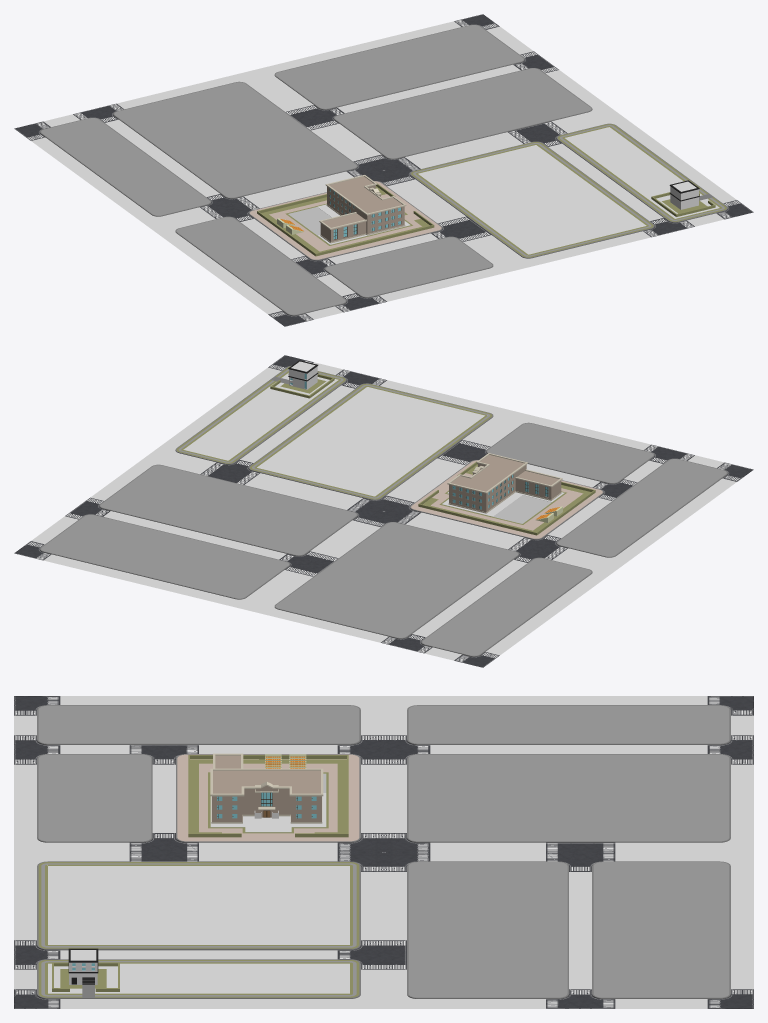
The model's file is map (2).fbx.
3 renders of one model, top to bottom at view 1: azimuth 30°, elevation 25°; view 2: azimuth 150°, elevation 25°; view 3: azimuth 270°, elevation 25°, orthographic. The views are drawn at different scales.
Parts seen in each view (by area): view 1: Plane, Plane.023, Plane.001, Plane.009, Plane.011, Plane.008, Plane.007, Plane.005, Plane.006, Plane.002; view 2: Plane, Plane.023, Plane.001, Plane.009, Plane.011, Plane.008, Plane.005, Plane.007, Plane.002, Plane.006; view 3: Plane, Plane.023, Plane.009, Plane.001, Plane.011, Plane.008, Plane.007, Plane.005, Plane.006, Cube.
Part boxes in pixels (box(x1,y1,x2,y2)): Plane: box(40, 24, 727, 315); Plane.023: box(31, 21, 736, 319); Plane.001: box(319, 175, 406, 243); Plane.009: box(200, 105, 567, 241); Plane.011: box(133, 64, 634, 276); Plane.008: box(73, 51, 694, 312); Plane.007: box(14, 14, 753, 326); Plane.005: box(346, 154, 420, 186); Plane.006: box(669, 180, 699, 209); Plane.002: box(288, 207, 331, 235); Plane: box(40, 365, 727, 656); Plane.023: box(31, 362, 736, 660); Plane.001: box(447, 453, 562, 513); Plane.009: box(200, 440, 567, 576); Plane.011: box(133, 405, 634, 617); Plane.008: box(65, 369, 694, 653); Plane.005: box(347, 495, 421, 527); Plane.007: box(14, 355, 753, 667); Plane.002: box(493, 495, 551, 523); Plane.006: box(288, 360, 318, 389); Plane: box(37, 705, 730, 998); Plane.023: box(14, 696, 753, 1008); Plane.009: box(129, 735, 615, 969); Plane.001: box(210, 753, 323, 823); Plane.011: box(14, 696, 753, 1008); Plane.008: box(14, 735, 753, 1008); Plane.007: box(14, 696, 753, 1008); Plane.005: box(337, 833, 430, 871); Plane.006: box(68, 948, 98, 984); Cube: box(265, 754, 306, 768).
Bounding box in the file's own units: 2000 × 104 × 2000.
